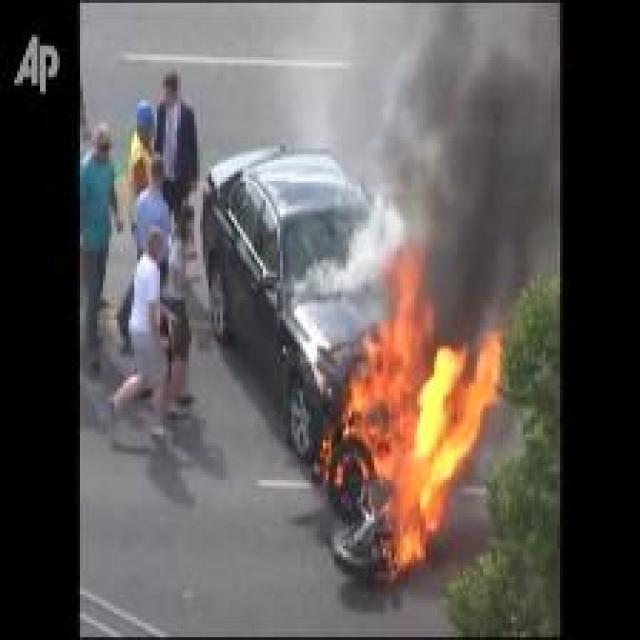Fire: (343, 238, 503, 570)
